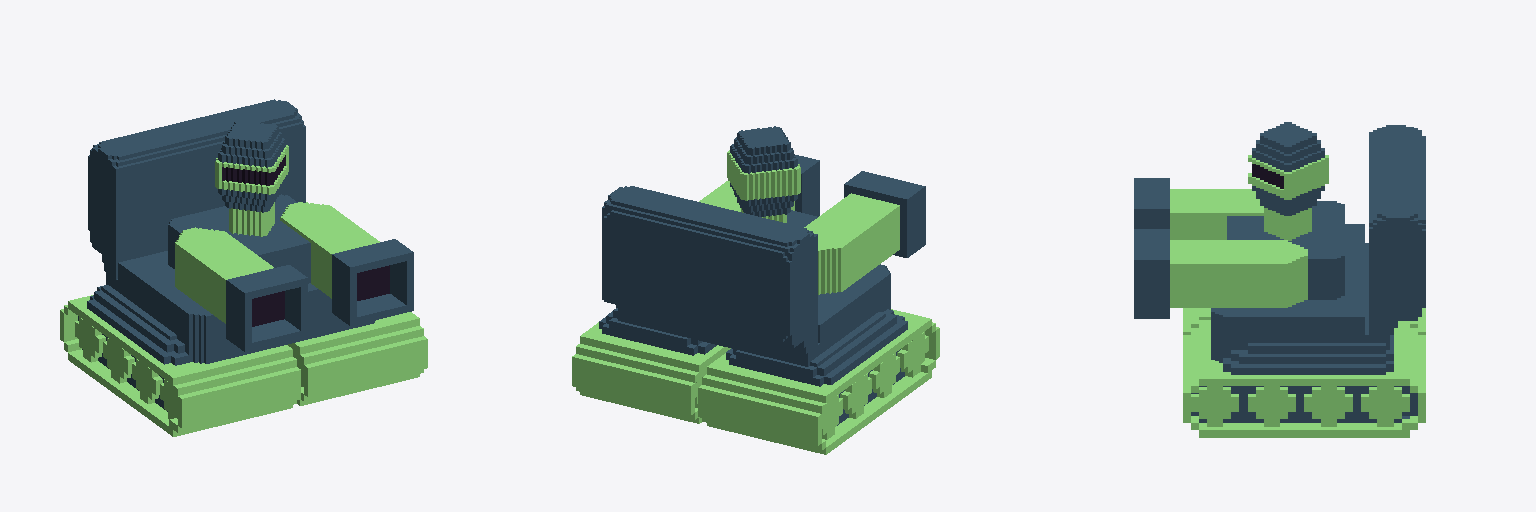
3 renders of one model, left to right at view 1: azimuth 30°, elevation 25°; view 2: azimuth 150°, elevation 25°; view 3: azimuth 270°, elevation 25°, orthographic.
Visible parts, largest first — view 1: object 1; view 2: object 1; view 3: object 1.
Boxes of the visible parts, <box> form: object 1: <box>60,99,427,436</box>; object 1: <box>572,126,939,454</box>; object 1: <box>1134,122,1425,437</box>.
Size of the model in its own units: 7 by 6.6 by 7.2.
Materials: 1 (1 with a texture image).